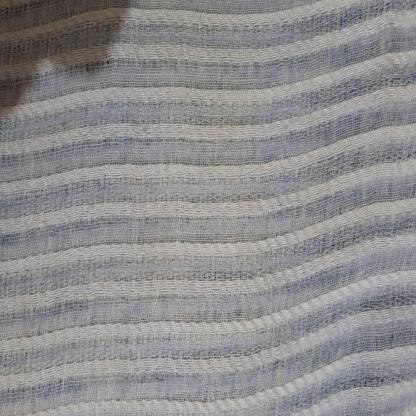spot: (133, 0, 270, 230)
